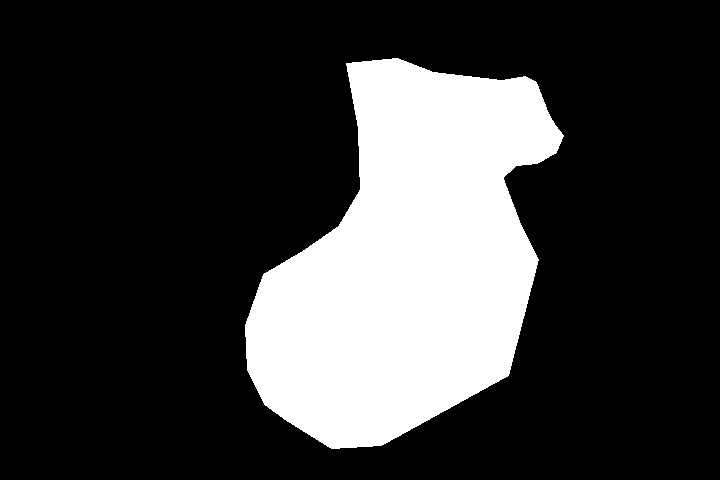Fire: (348, 60, 564, 180)
